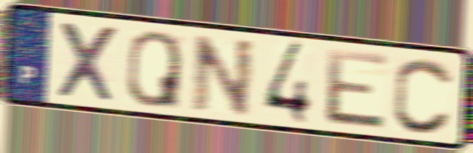4: (260, 38, 316, 128)
C: (390, 55, 456, 137)
E: (324, 45, 391, 133)
N: (191, 33, 258, 119)
Q: (124, 28, 182, 111)
X: (54, 17, 121, 106)
